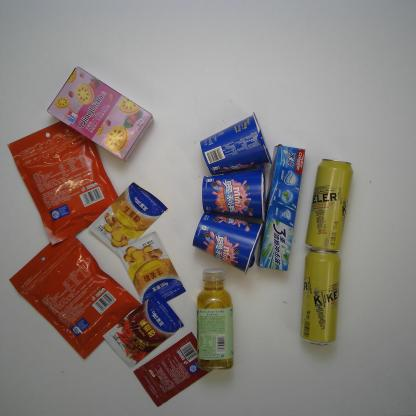Alcohol: (302, 158, 356, 252), (296, 248, 342, 346)
Dessert: (43, 66, 155, 160), (200, 109, 273, 175), (189, 210, 263, 272), (196, 172, 267, 218)
Dried Fruit: (11, 235, 140, 366), (8, 118, 122, 246)
Drink: (196, 268, 237, 373)
Personal Hygiene: (262, 138, 305, 274)
Seasoner: (128, 330, 214, 408), (90, 181, 167, 256), (102, 293, 177, 365), (120, 231, 186, 305)
